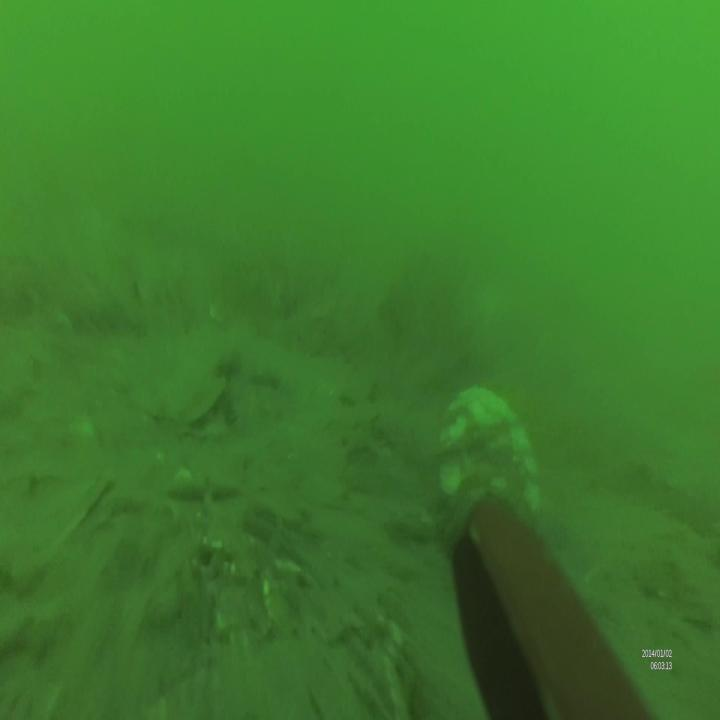scallop: (442, 383, 542, 522)
